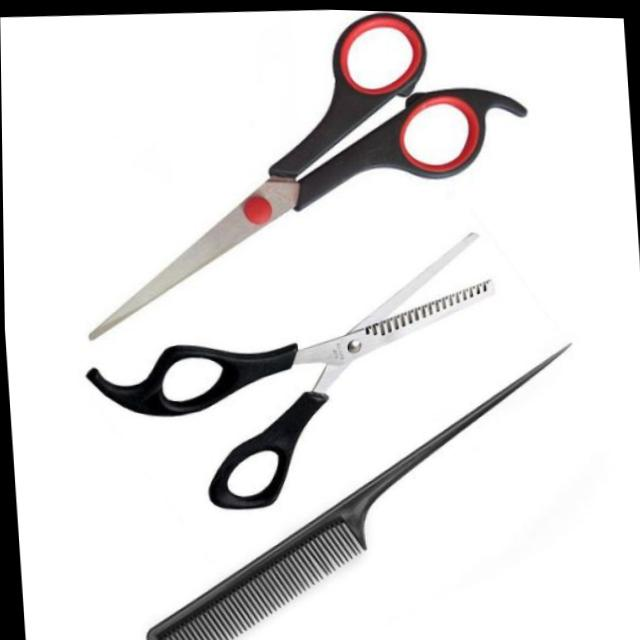scissor: (44, 8, 568, 346)
